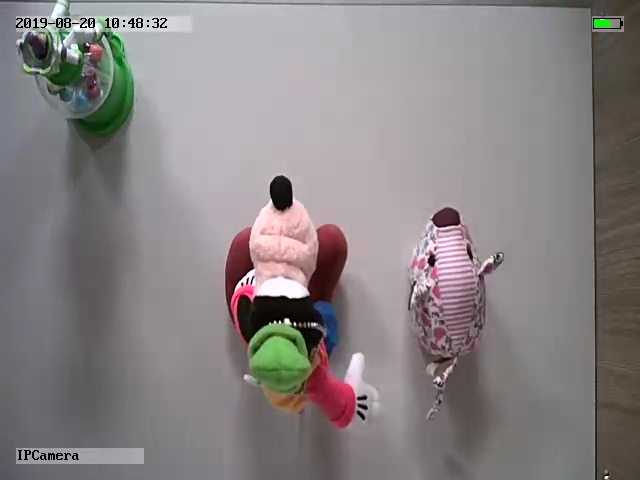buzz: (10, 1, 136, 126)
goofy: (222, 173, 384, 436)
pig: (403, 206, 505, 421)
